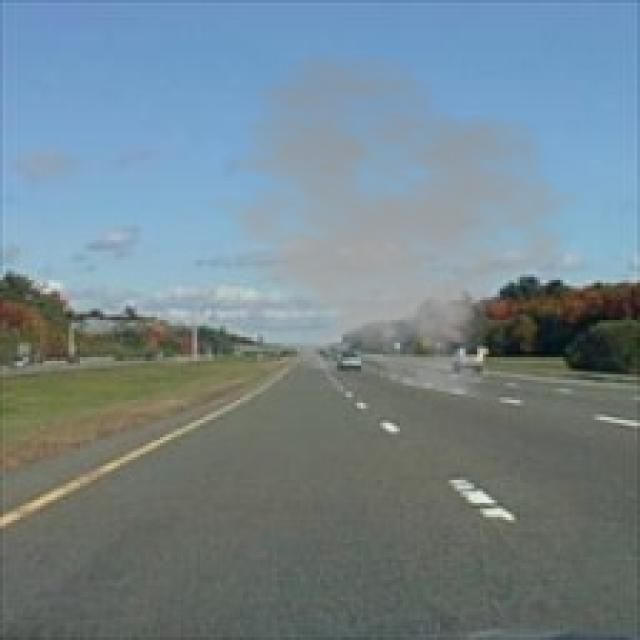smoke: (188, 49, 588, 400)
